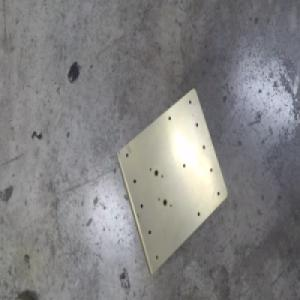MetalSheet: (114, 87, 229, 277)
